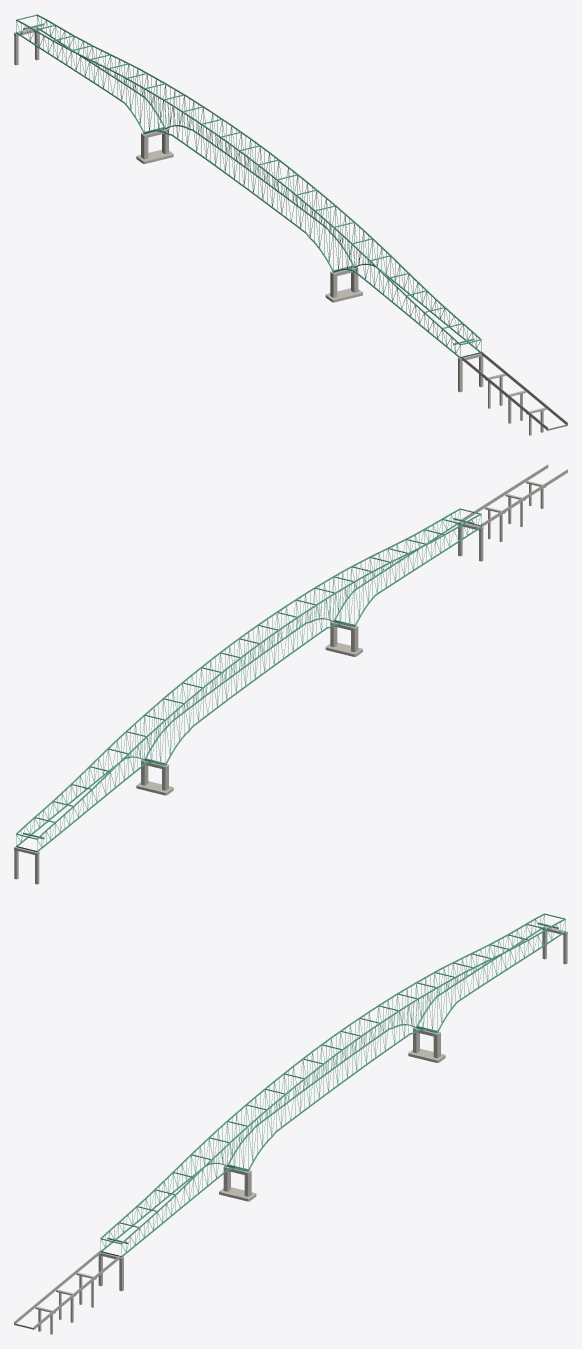
The model's file is jax-hart-bridge.glb.
The picture shows the model from 3 angles, top to bottom: view 1: azimuth 30°, elevation 25°; view 2: azimuth 150°, elevation 25°; view 3: azimuth 330°, elevation 25°; orthographic projection.
Visible parts, largest first — view 1: Hart Bridge; view 2: Hart Bridge; view 3: Hart Bridge.
Boxes of the visible parts, box(x1,y1,x2,y2) form: Hart Bridge: box(14, 14, 567, 435); Hart Bridge: box(14, 464, 567, 884); Hart Bridge: box(14, 913, 567, 1334).
Bounding box in the file's own units: 31 × 76.8 × 934.
